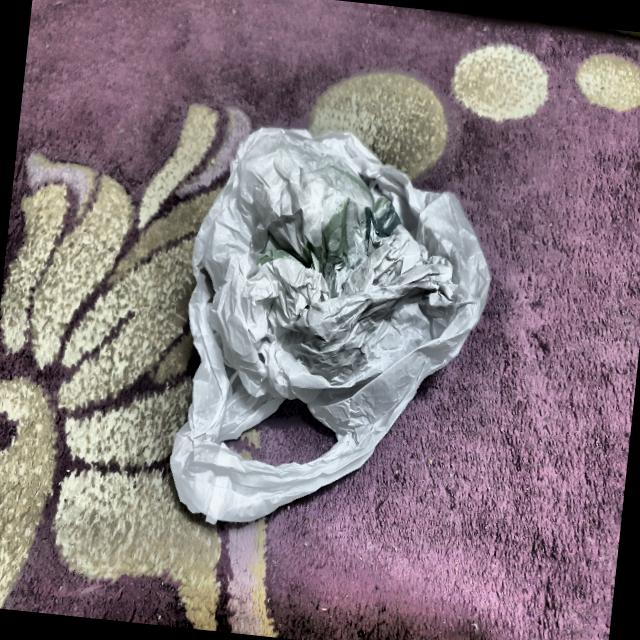plastic bag: (142, 95, 514, 558)
